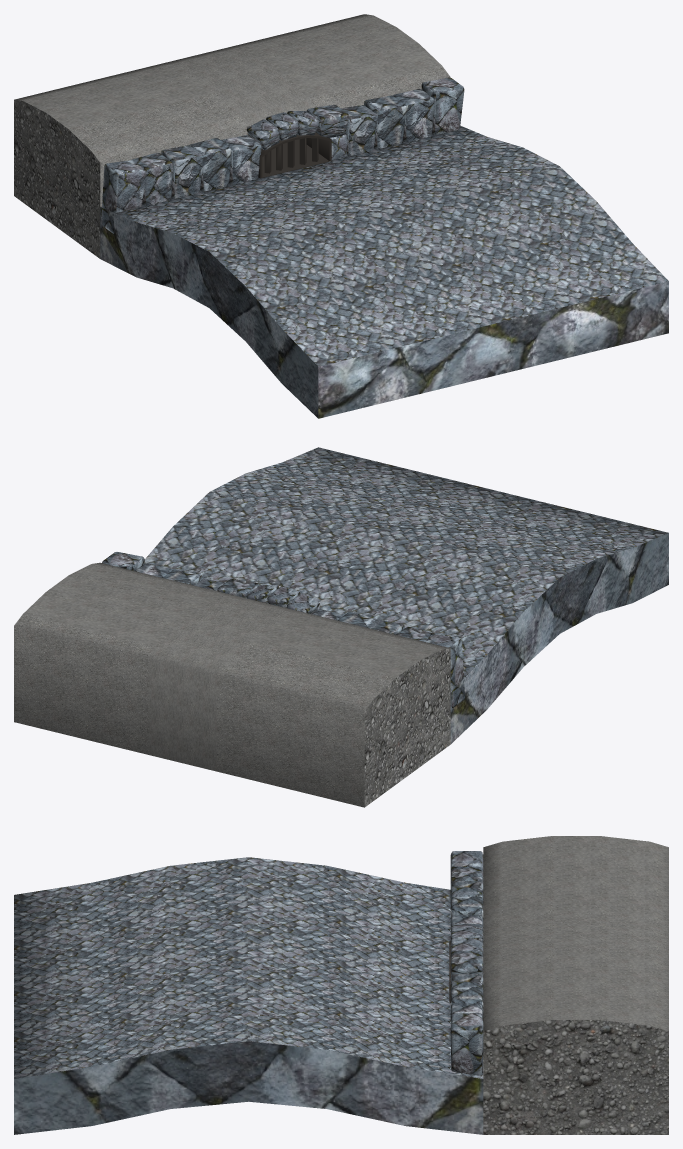
The model's file is Street_4m.fbx.
3 views of the same model, one above another, from view 1: azimuth 30°, elevation 25°; view 2: azimuth 150°, elevation 25°; view 3: azimuth 270°, elevation 25° (orthographic). The views are drawn at different scales.
Visible parts, largest first — view 1: VictorianBiome.StreetPlatform.4m; view 2: VictorianBiome.StreetPlatform.4m; view 3: VictorianBiome.StreetPlatform.4m.
Part boxes in pixels (bbox=[...]): VictorianBiome.StreetPlatform.4m: bbox=[14, 14, 668, 418]; VictorianBiome.StreetPlatform.4m: bbox=[14, 447, 668, 807]; VictorianBiome.StreetPlatform.4m: bbox=[14, 836, 668, 1134].
Bounding box in the file's own units: 4 × 1.16 × 6.
